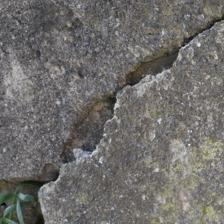Crack: (69, 29, 191, 71), (47, 98, 133, 125)
